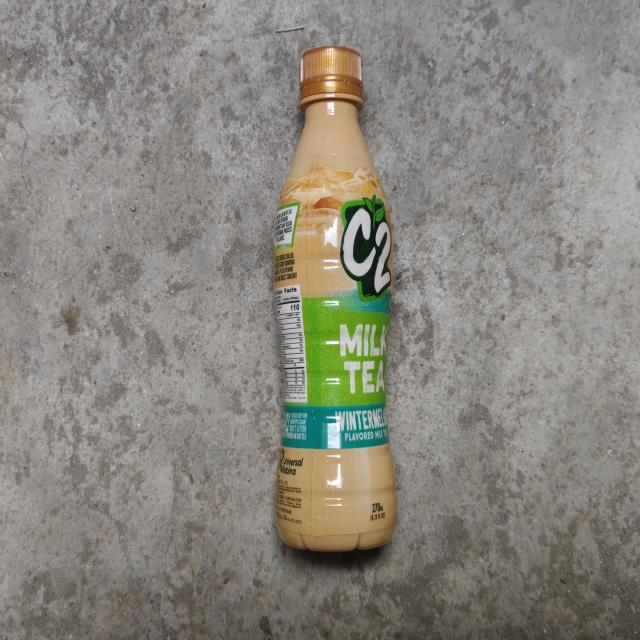Bottle: (271, 46, 398, 556)
